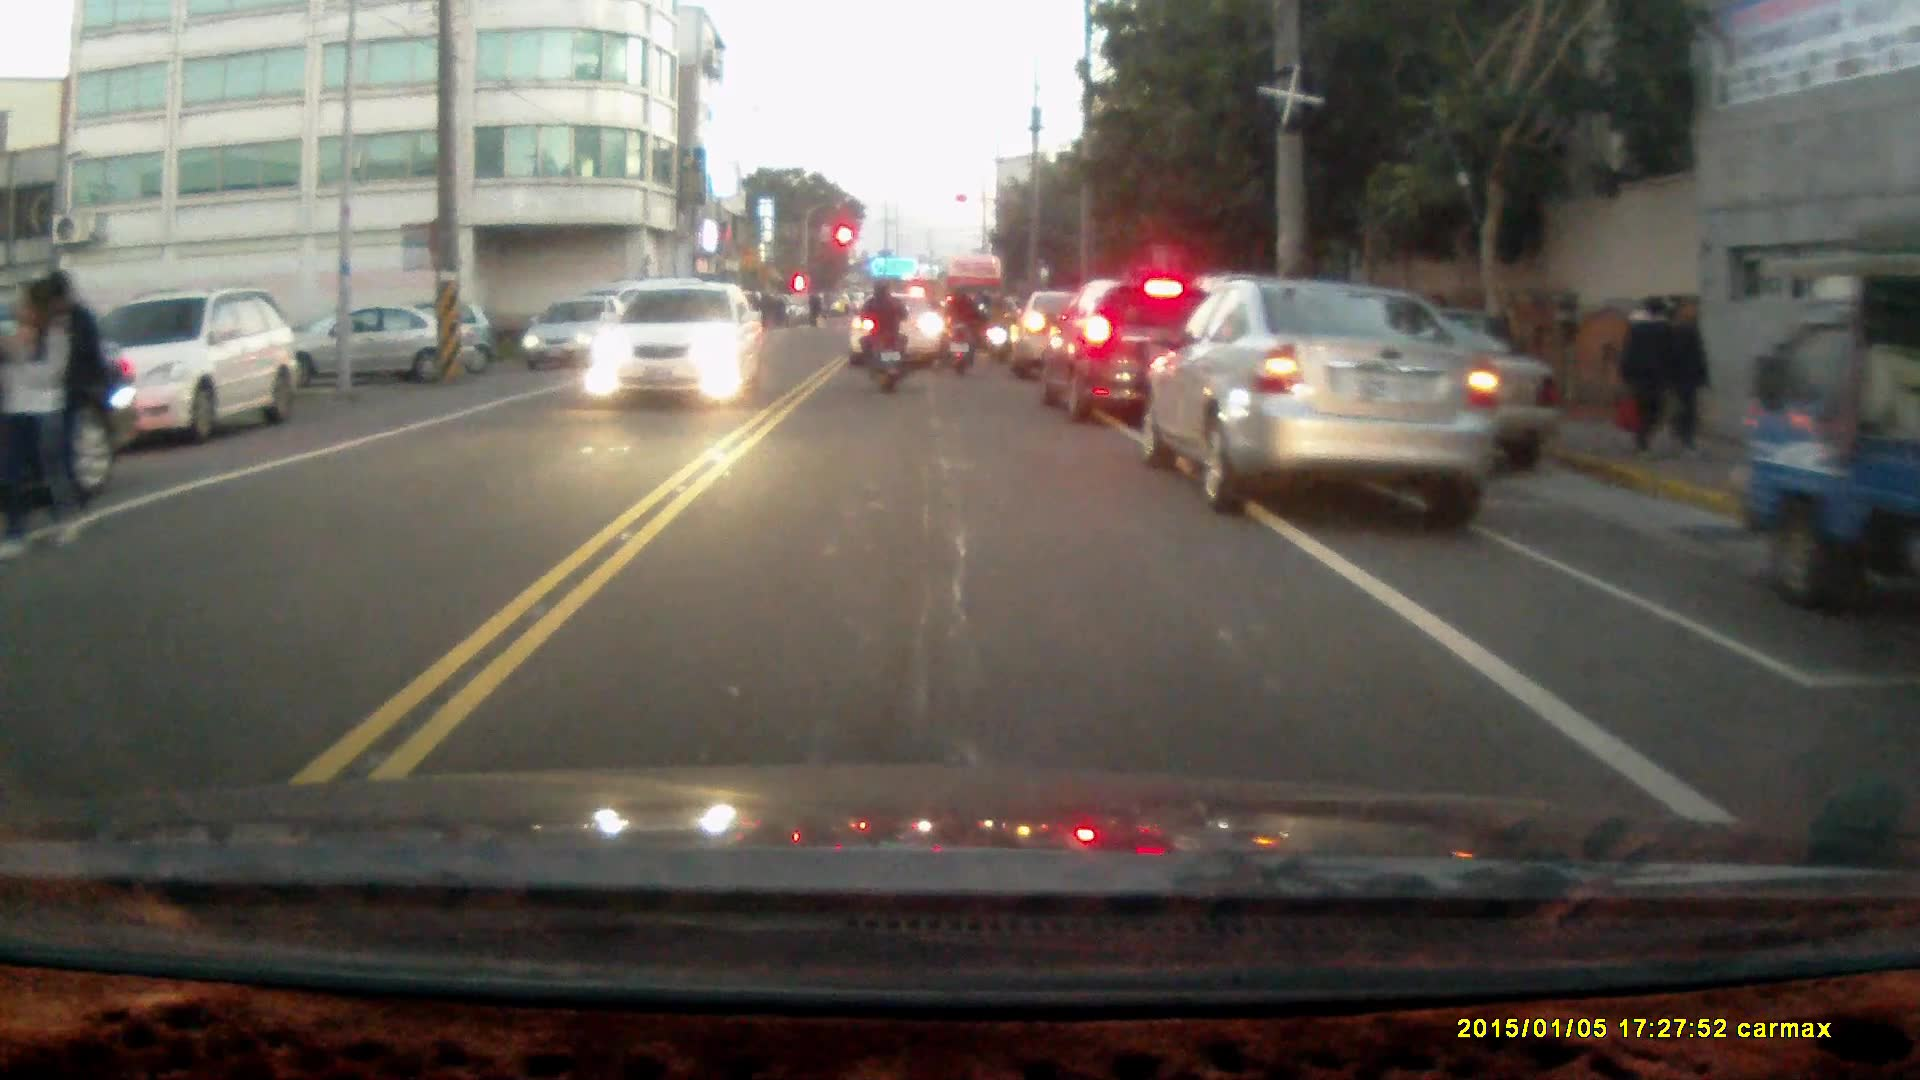pedestrian: (4, 277, 77, 561), (1653, 292, 1711, 455), (1616, 295, 1672, 459)
rider: (854, 273, 906, 391), (936, 278, 984, 374)
vehicle: (1147, 277, 1499, 522), (1730, 220, 1920, 620), (40, 288, 303, 447), (1, 311, 140, 530), (1042, 276, 1207, 422), (584, 280, 764, 406), (288, 302, 480, 382), (526, 293, 634, 371), (851, 292, 951, 367)
